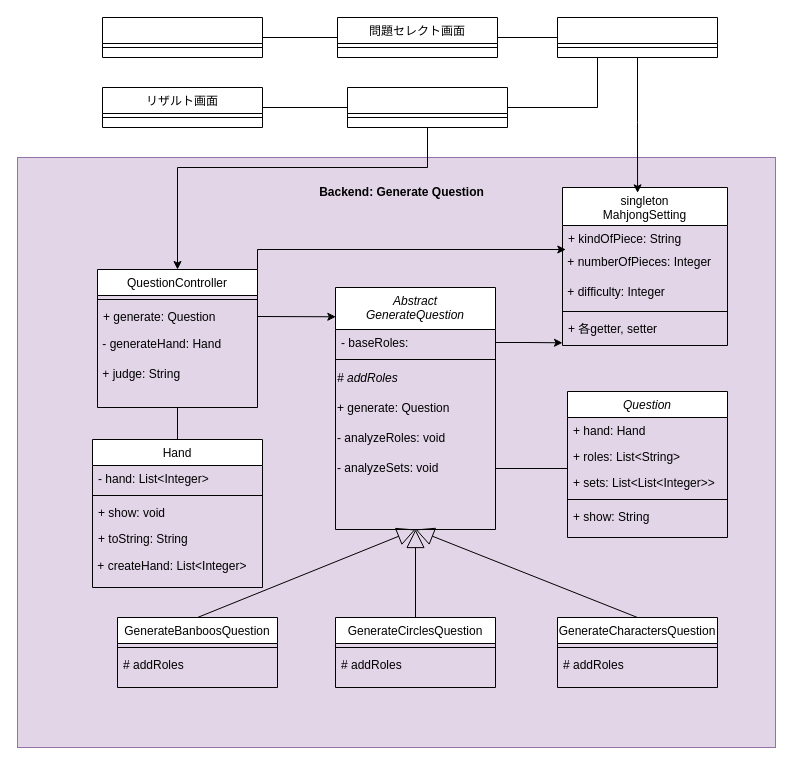
Some shapes in this 793 by 765 pixel diagram are drawn without their labels. Each missing label, with the centre of its shape:
"スタート画面" belongs at pixel 637 37.
"ホーム画面" belongs at pixel 182 37.
"問題画面" belongs at pixel 427 107.
